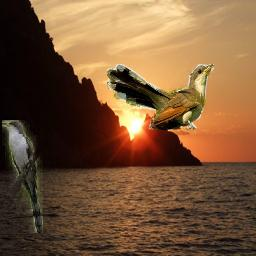Cuckoo: (108, 64, 215, 130), (3, 121, 44, 234)
